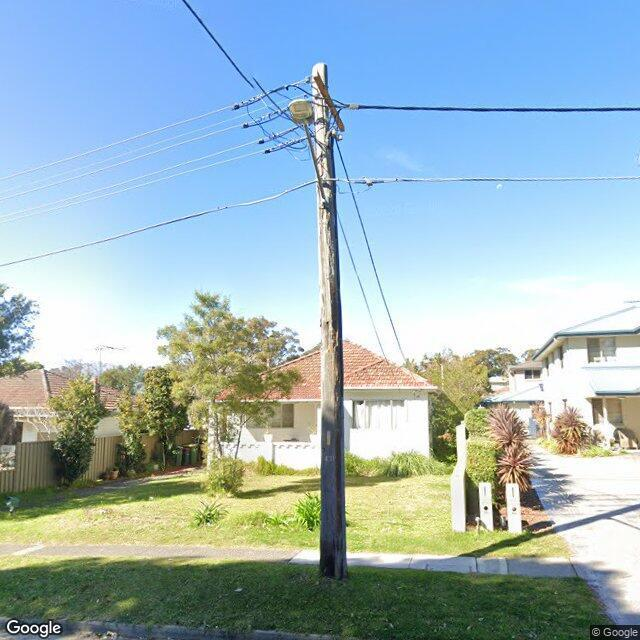crossarm: (311, 72, 346, 132)
streetlight: (288, 98, 330, 209)
timber-pole: (314, 63, 347, 580)
